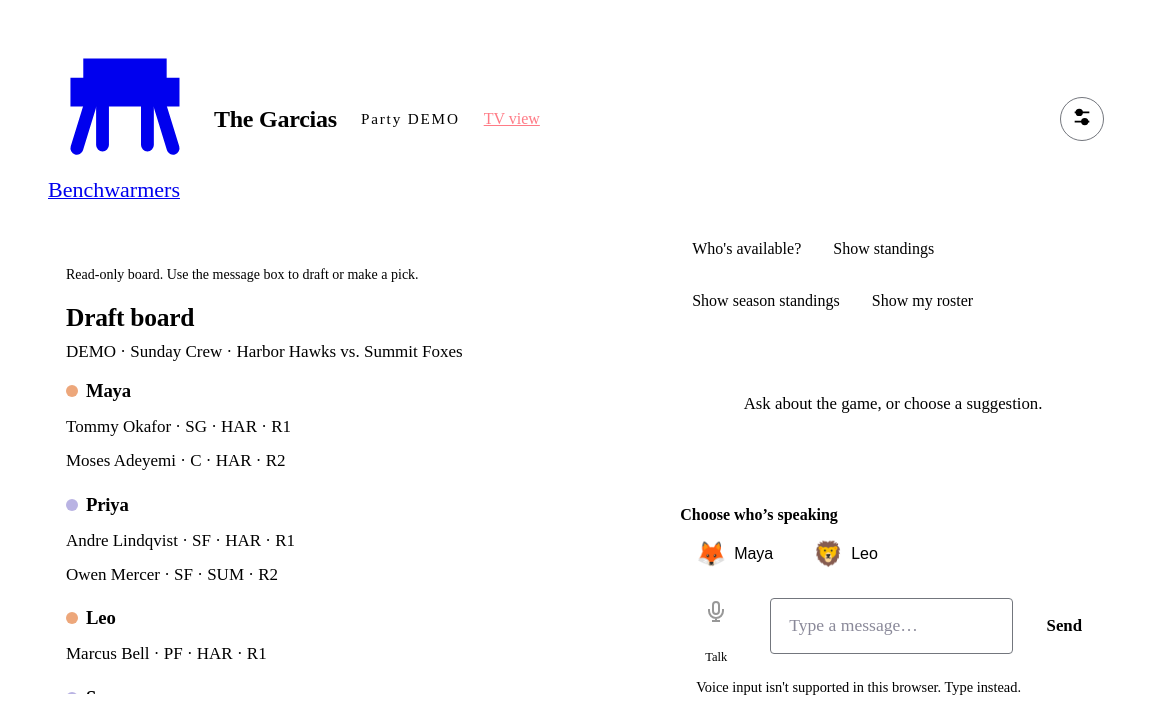
Test: DeviceScreen › error path: failed send shows an inline error and the next send works
Type "first" into the field labelled "Type a message". click: x=891, y=626
box: [770,598,1012,654]
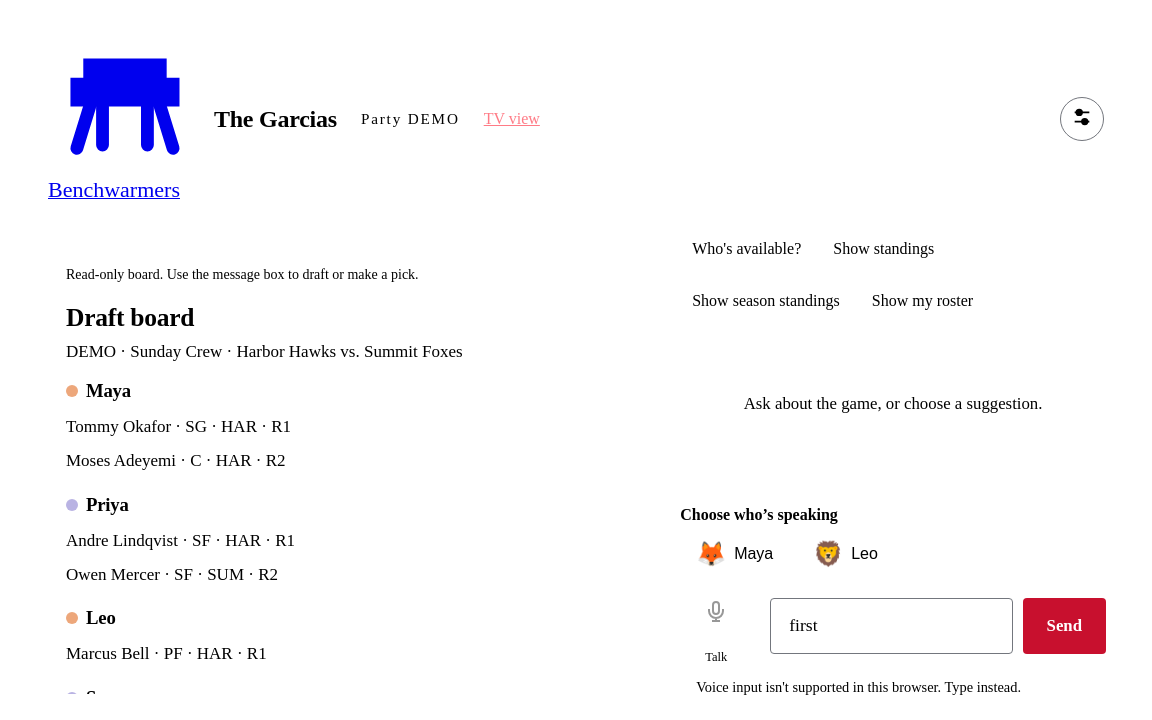
Submit the form named "Type a message", box [770,598,1106,654]
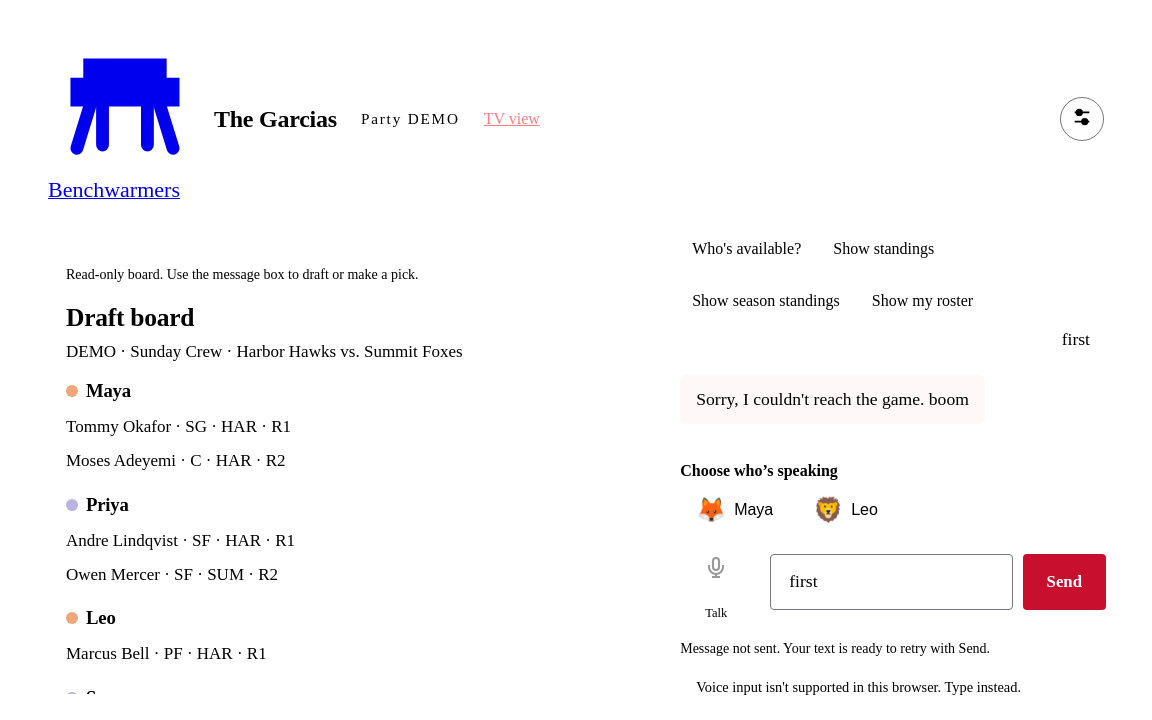
Expected: the message "Sorry, I couldn't reach the game. boom" is shown, [680,375,985,424]
Replace the text in the field named "Type a message" with "second". click: x=891, y=582
box: [770,554,1012,610]
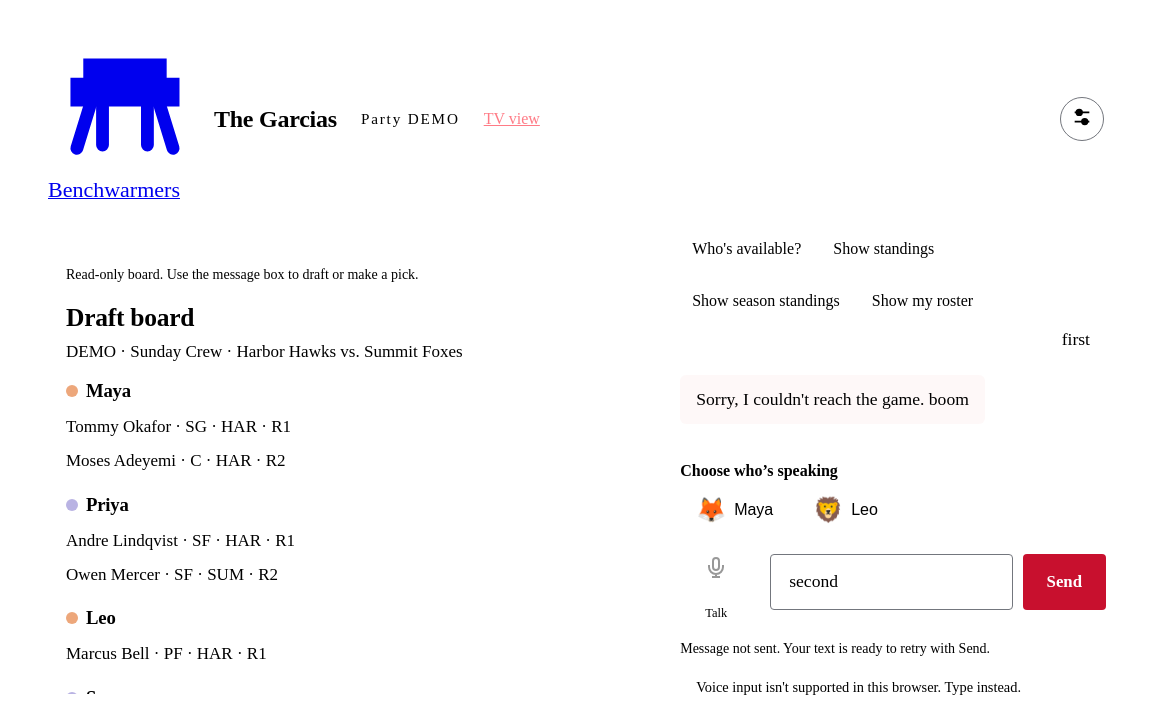
Submit the form named "Type a message", box [770,554,1106,610]
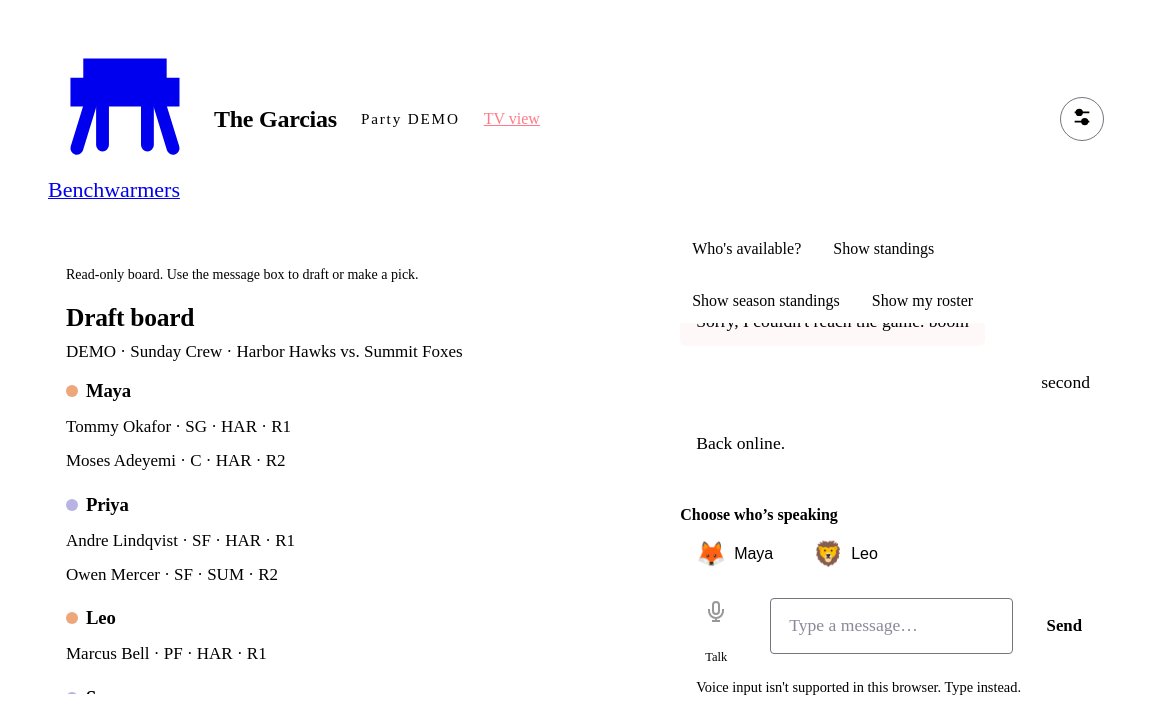
Expected: the text "Back online." is shown, [696,431,785,455]
